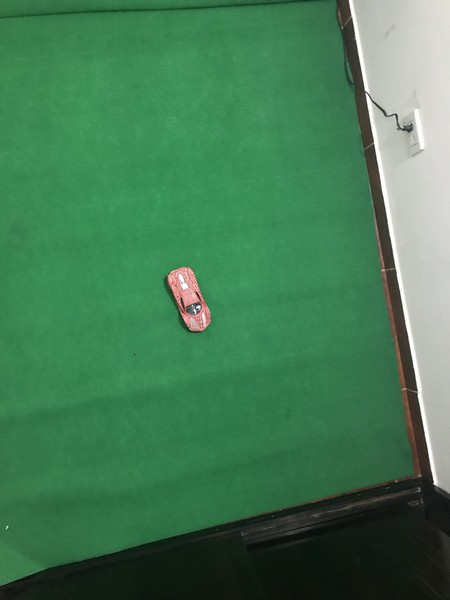RC: (165, 264, 214, 335)
